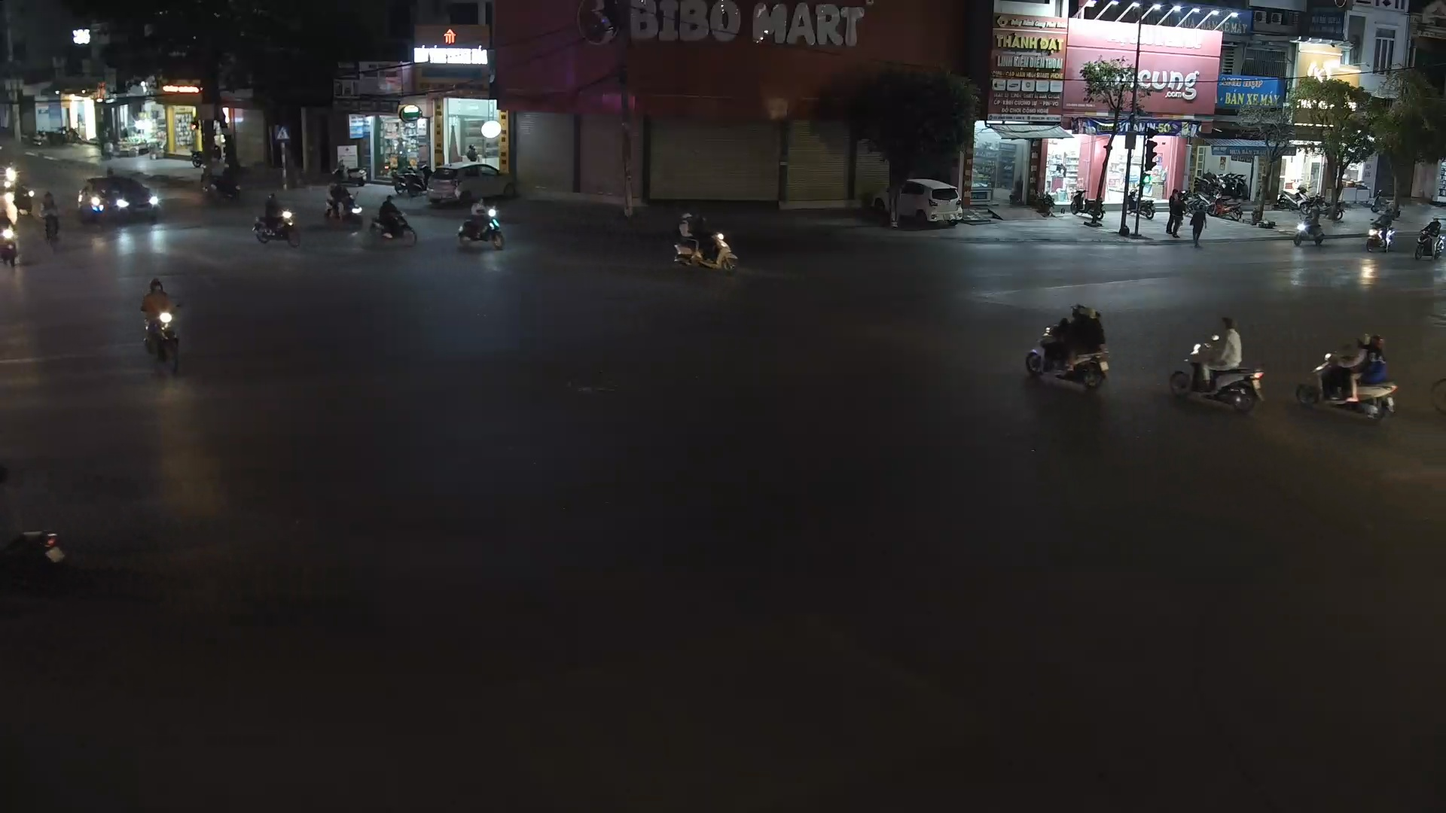car: (78, 169, 163, 225)
motorbike: (1292, 331, 1401, 424), (1169, 312, 1267, 414), (1023, 302, 1113, 393), (137, 274, 187, 375), (670, 210, 741, 275), (361, 194, 419, 248), (454, 198, 506, 251), (252, 190, 300, 247), (39, 188, 63, 244), (0, 207, 22, 267)
